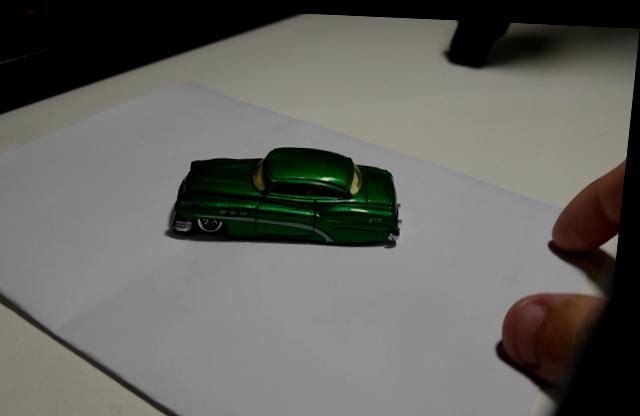06_MASERATI: (169, 145, 405, 246)
